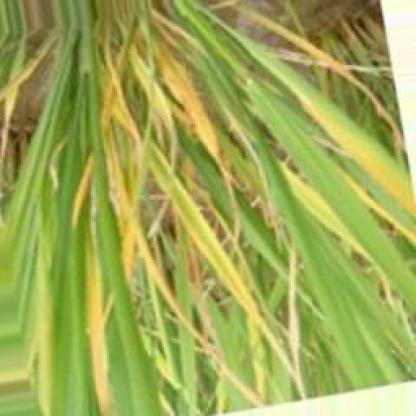Tungro: (129, 143, 297, 369), (99, 6, 236, 146), (302, 73, 414, 219), (276, 146, 387, 278), (81, 213, 119, 416), (3, 40, 67, 130), (219, 367, 269, 409), (75, 161, 104, 227)
